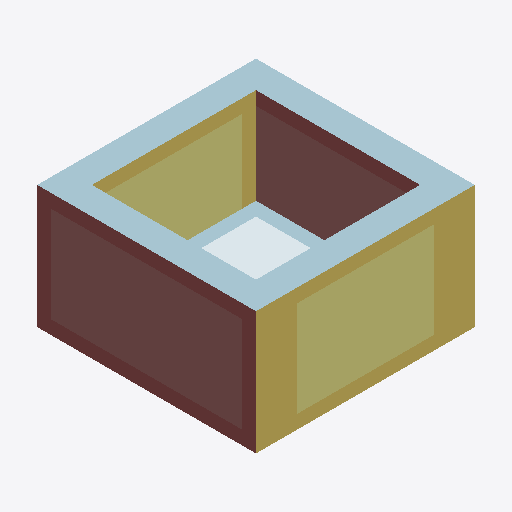
Isometric view (azimuth 45°, elevation 35.3°) of a Minecraft model made of 5 cuboids, textured from the same repository.
Visible parts, largest first — element 1, element 4, element 3, element 2, element 5.
Part boxes in pixels (x1,y1,x2,y2): element 1: (37,169,282,452); element 4: (256,185,446,437); element 3: (229,59,474,342); element 2: (65,74,255,239); element 5: (188,201,323,278).
Size of the model in its own units: 16 by 9 by 16.